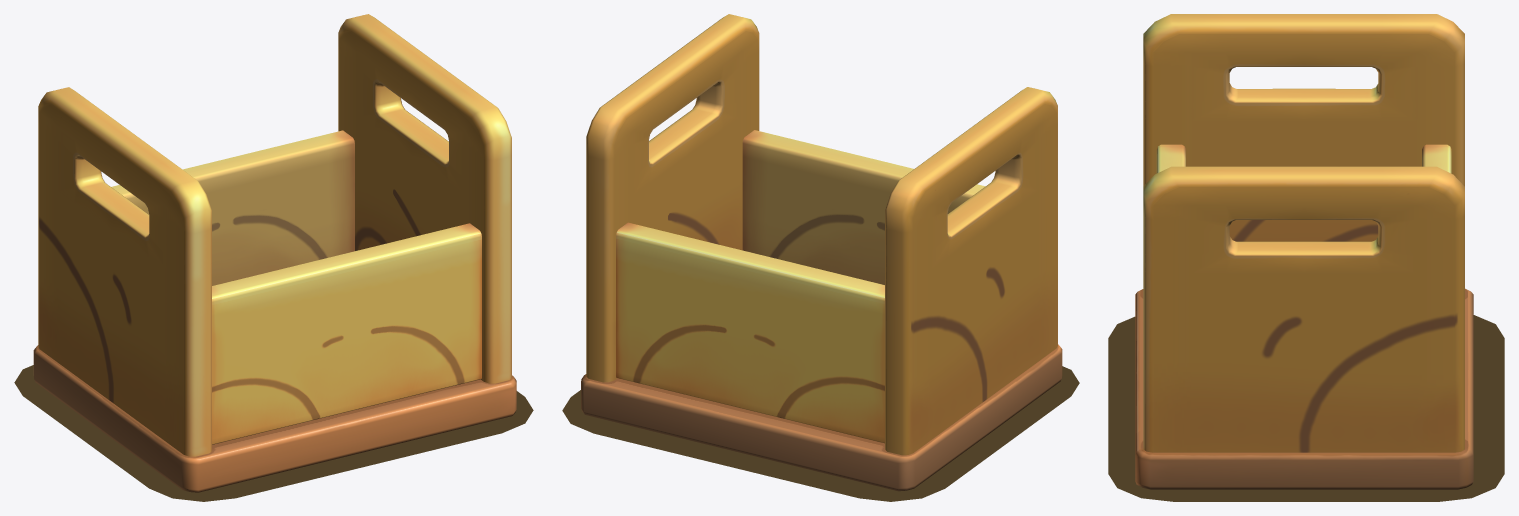
Rendered from WoodTray.fbx.
3 views of the same model, side by side, from view 1: azimuth 30°, elevation 25°; view 2: azimuth 150°, elevation 25°; view 3: azimuth 270°, elevation 25° (orthographic). The views are drawn at different scales.
Visible parts, largest first — view 1: WoodTray_body, WoodTray_SDW; view 2: WoodTray_body, WoodTray_SDW; view 3: WoodTray_body, WoodTray_SDW.
Part boxes in pixels (<box>): WoodTray_body: <box>33,14,516,492</box>; WoodTray_SDW: <box>14,365,533,501</box>; WoodTray_body: <box>581,14,1062,491</box>; WoodTray_SDW: <box>562,366,1079,501</box>; WoodTray_body: <box>1135,14,1473,489</box>; WoodTray_SDW: <box>1108,315,1504,501</box>.
Bounding box in the file's own units: 102 × 77.29 × 88.98.
Materials: 2 (1 with a texture image).
